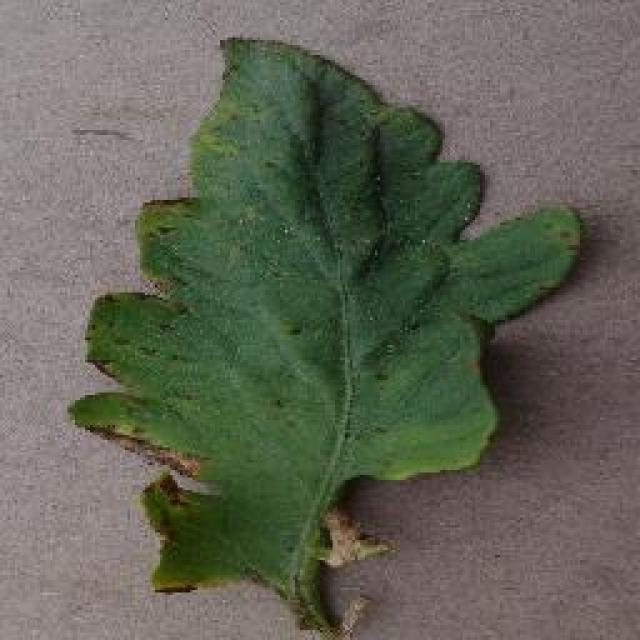Tomato bacterial spot leaf: (64, 30, 594, 600)
